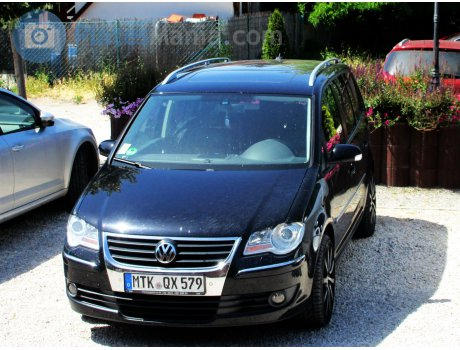License Plates: (131, 272, 203, 291)
